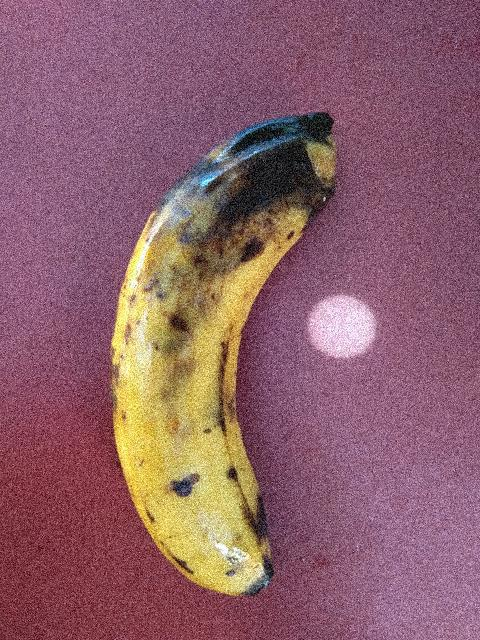rotten: (104, 87, 374, 593)
